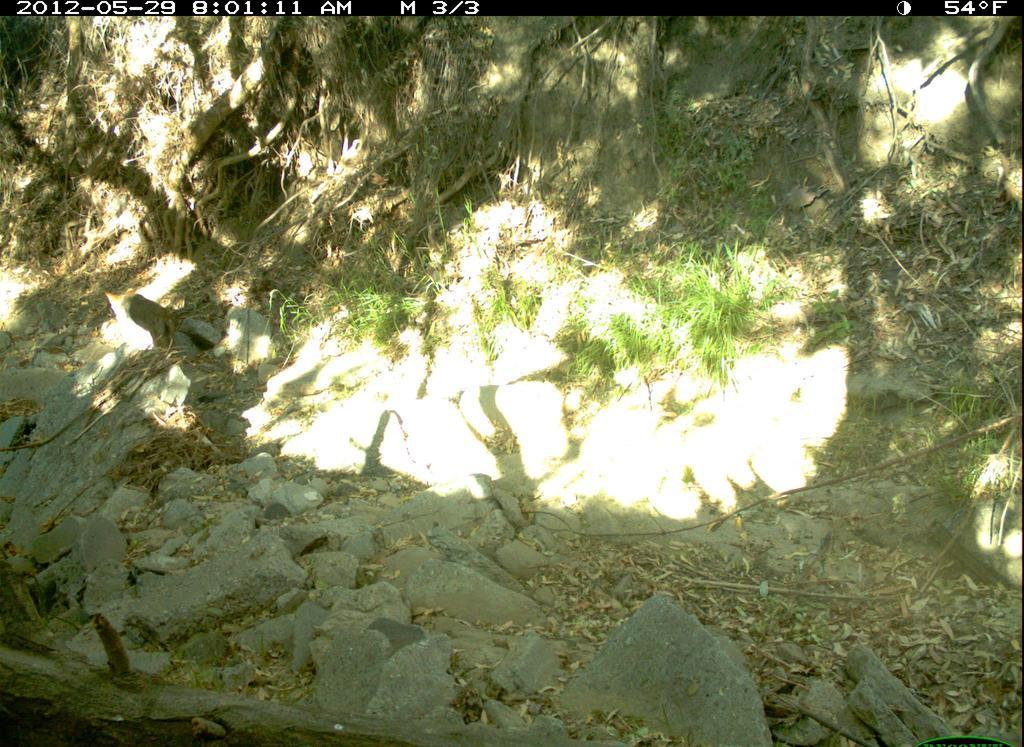coyote: (95, 283, 223, 372)
